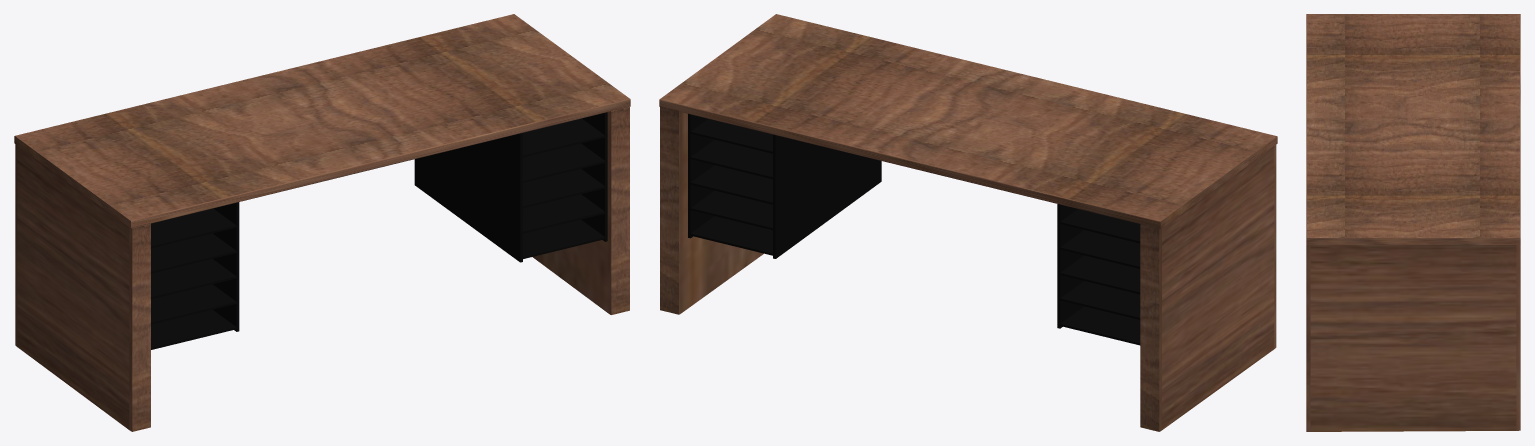
File: DESK_01.fbx
The picture shows the model from 3 angles, left to right: view 1: azimuth 30°, elevation 25°; view 2: azimuth 150°, elevation 25°; view 3: azimuth 270°, elevation 25°; orthographic projection. The views are drawn at different scales.
Parts seen in each view (by area): view 1: DESK_01; view 2: DESK_01; view 3: DESK_01.
Boxes of the visible parts, x1,y1,x2,y2 form: DESK_01: (14, 14, 630, 431); DESK_01: (659, 14, 1277, 431); DESK_01: (1306, 14, 1520, 431).
Size of the model in its own units: 221 by 89.12 by 89.29.
